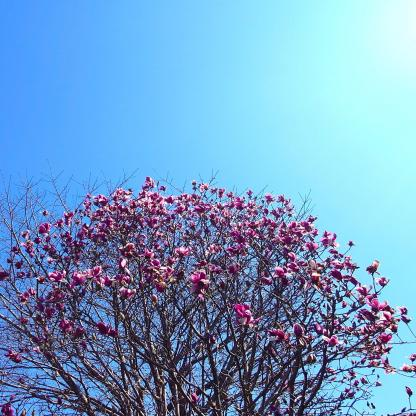Mokuren: (0, 169, 416, 416)
